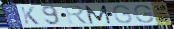9: (41, 5, 62, 26)
G: (112, 4, 134, 25), (133, 4, 155, 24)
K: (19, 6, 41, 25)
M: (84, 5, 113, 25)
R: (63, 5, 91, 25)
